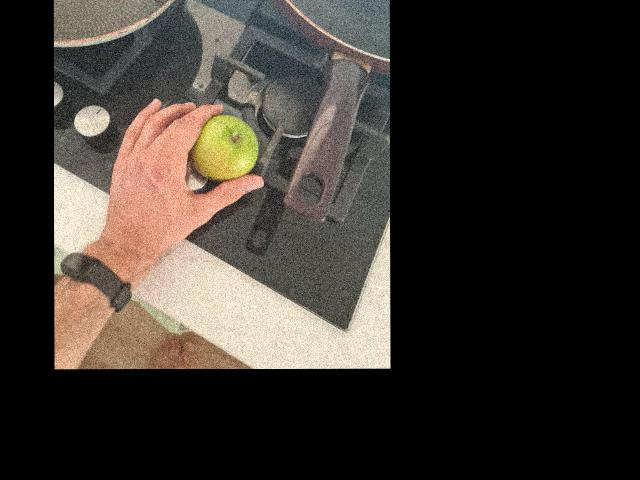apple: (186, 112, 259, 185)
